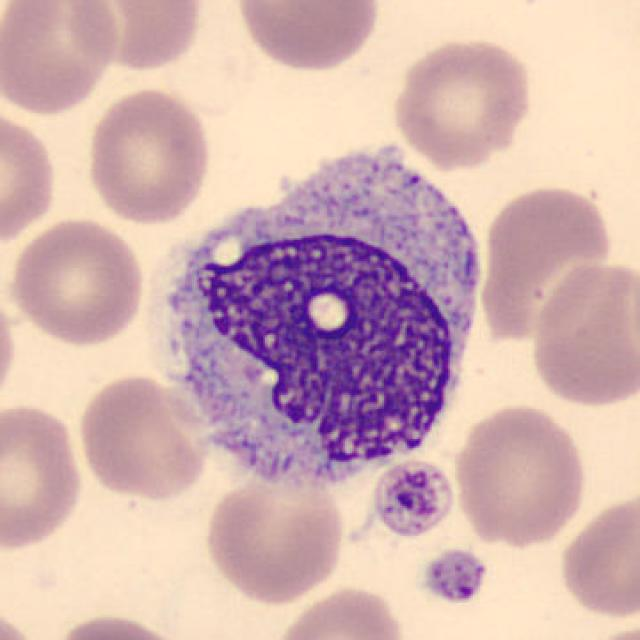Monocyte: (140, 129, 490, 497)
Platelets: (368, 458, 457, 542), (418, 546, 490, 606)
RBC: (474, 180, 618, 345), (199, 456, 349, 606), (450, 401, 592, 548), (389, 36, 537, 170), (5, 215, 150, 349), (82, 84, 215, 226), (73, 370, 213, 502), (524, 255, 638, 410), (0, 0, 124, 118), (0, 398, 87, 554), (231, 0, 384, 74), (555, 487, 638, 622), (64, 2, 210, 74), (0, 104, 62, 250), (266, 582, 411, 640), (369, 457, 458, 541), (46, 610, 188, 640), (0, 280, 21, 414), (0, 601, 46, 640), (574, 617, 640, 640)
